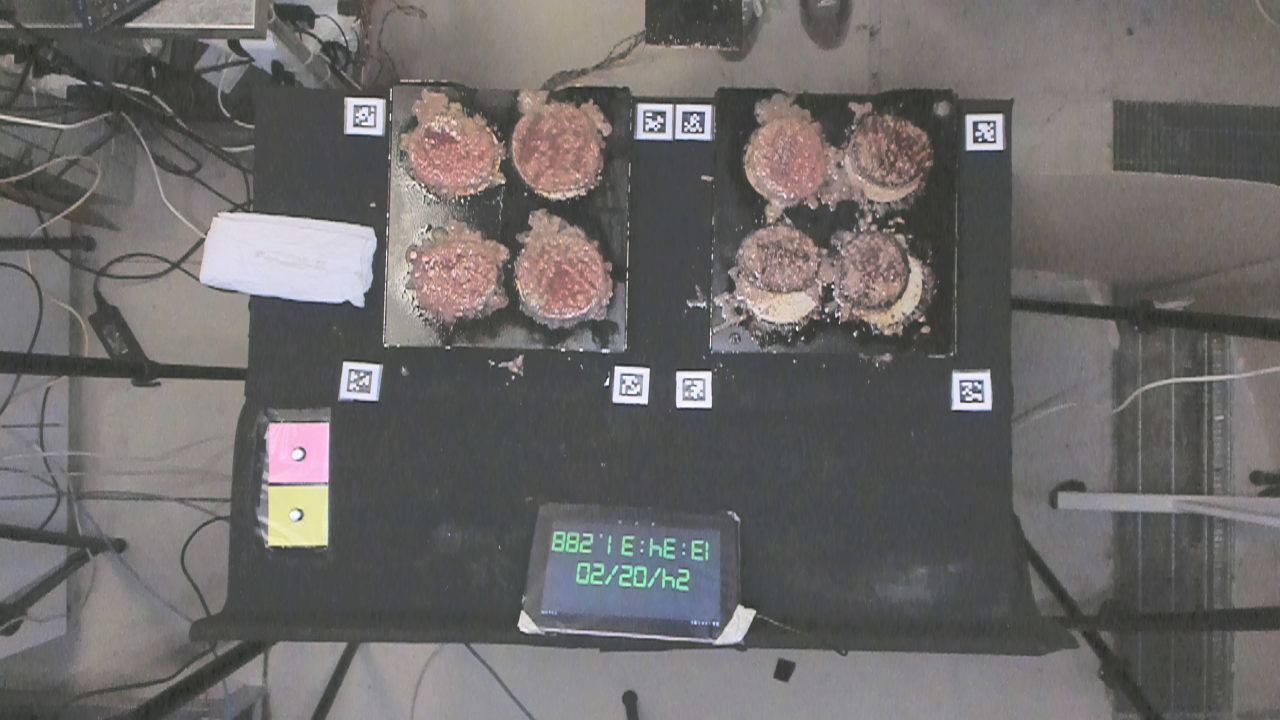hamburger: (396, 220, 504, 322), (845, 106, 939, 196), (523, 230, 607, 320), (516, 111, 611, 190), (411, 111, 498, 188), (742, 118, 822, 199), (837, 229, 912, 310), (732, 219, 823, 284)
marker: (263, 419, 333, 487)
